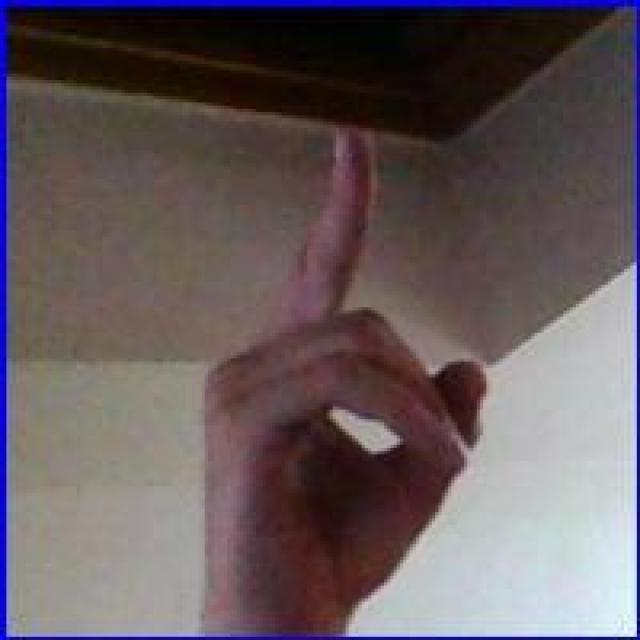D: (200, 121, 485, 640)
